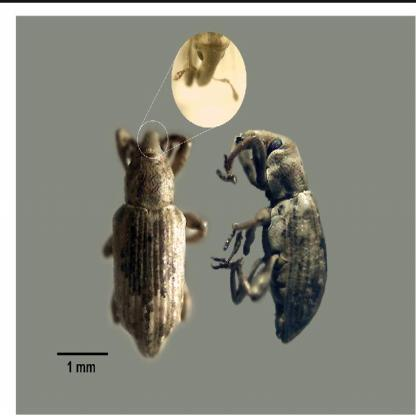rice-bug: (214, 127, 334, 344), (101, 127, 201, 359)
